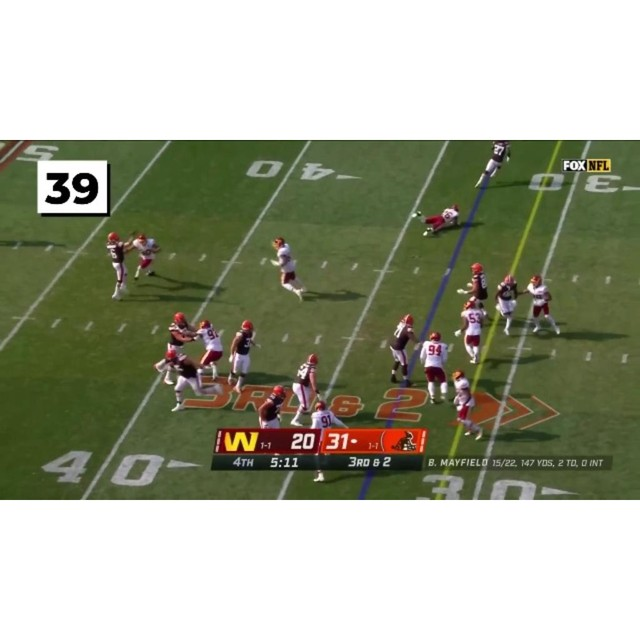american-football-player: (161, 349, 210, 411), (269, 236, 309, 303), (155, 310, 195, 374), (105, 231, 141, 301), (418, 332, 451, 404), (524, 275, 562, 336), (289, 353, 321, 425), (226, 320, 258, 392), (450, 368, 482, 439), (388, 315, 418, 386), (454, 301, 487, 364), (191, 318, 224, 380), (474, 140, 512, 190), (494, 274, 520, 335), (413, 205, 462, 237), (457, 262, 489, 310), (255, 384, 287, 429), (131, 235, 162, 281), (309, 400, 337, 428)
